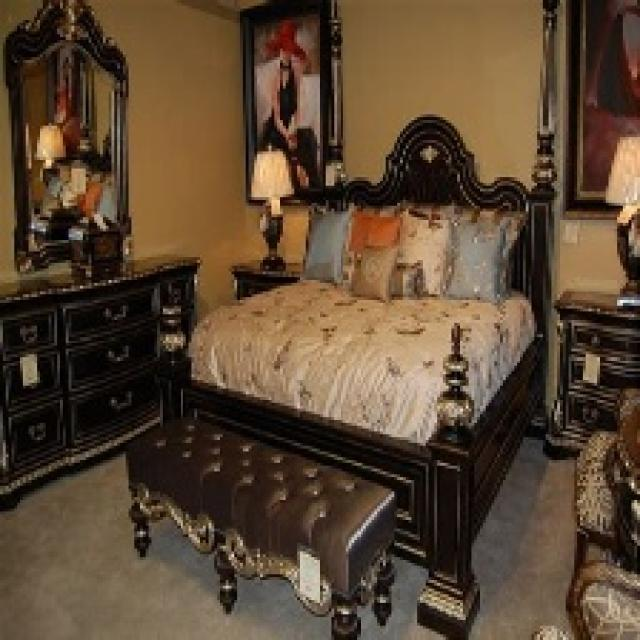Bed: (183, 112, 557, 637)
